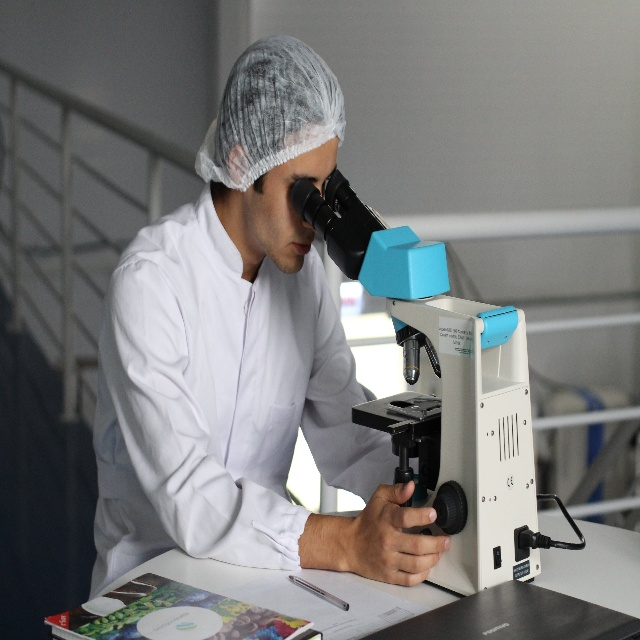Sin_guantes: (353, 479, 451, 588)
